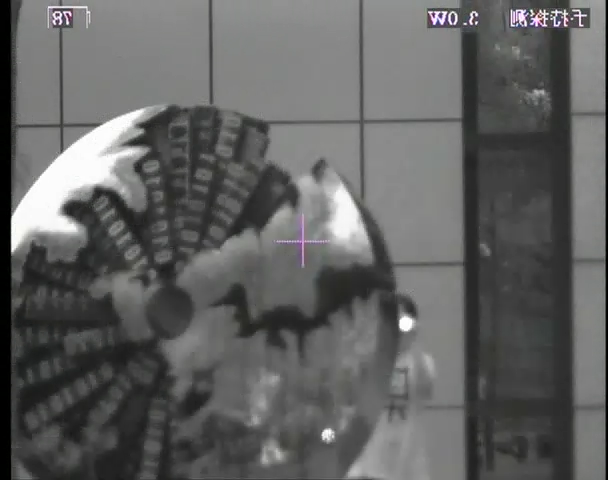my: (397, 315, 413, 332)
